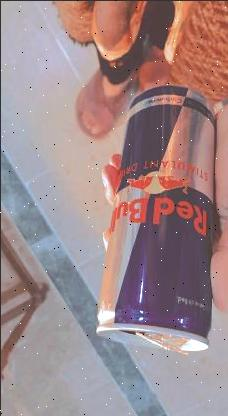Can: (94, 84, 216, 354)
